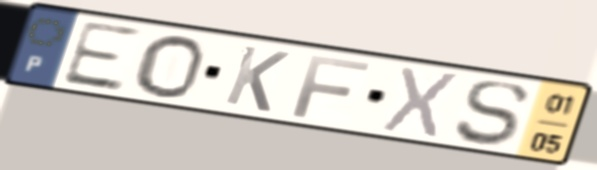E: (56, 17, 145, 94)
F: (288, 52, 375, 121)
K: (220, 42, 294, 115)
O: (131, 32, 208, 100)
S: (451, 79, 532, 148)
X: (377, 64, 464, 142)
